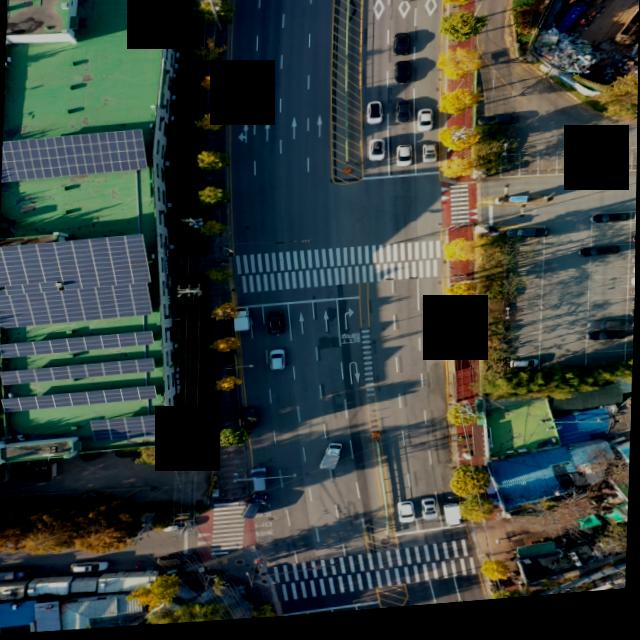car: (243, 496, 269, 524), (583, 337, 627, 353), (70, 491, 101, 513), (158, 555, 199, 571), (577, 254, 620, 269), (474, 120, 514, 135), (503, 235, 545, 249), (389, 38, 411, 62), (163, 521, 196, 536), (587, 328, 627, 340), (169, 458, 201, 473), (252, 470, 270, 495), (590, 222, 627, 234), (421, 503, 438, 527), (73, 562, 109, 573), (268, 318, 284, 341), (393, 69, 409, 92), (269, 355, 286, 376), (400, 507, 416, 529), (417, 117, 433, 138), (368, 146, 384, 167), (395, 109, 410, 131), (366, 109, 380, 131), (394, 152, 410, 171), (422, 150, 438, 169), (510, 367, 536, 377), (398, 0, 413, 7)
small_truck: (320, 449, 344, 477), (0, 565, 37, 581), (443, 510, 465, 535), (232, 312, 252, 337), (241, 411, 259, 436)
